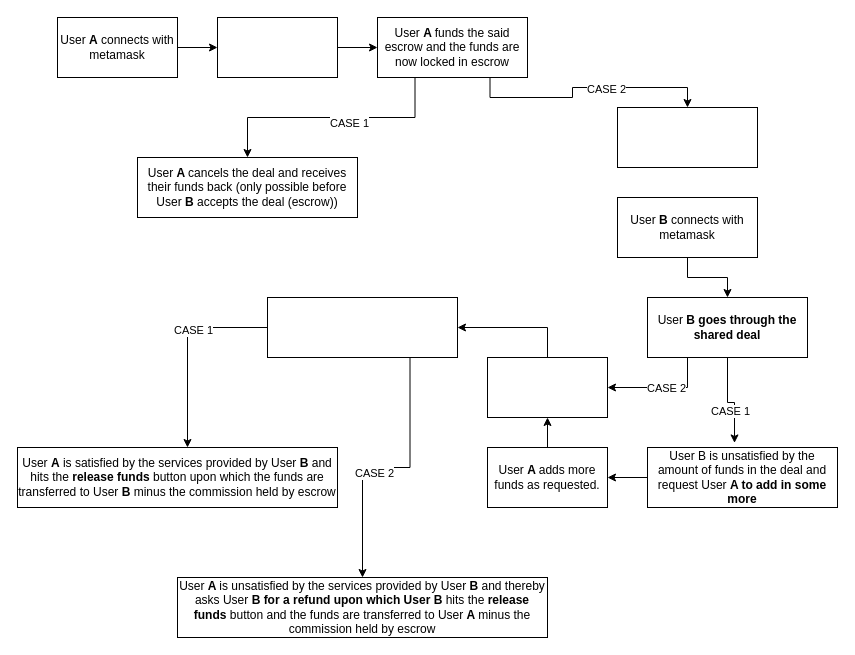
The diagram is 855 pixels wide and 655 high, and some of its shapes have lost their labels. Here are the shapes that lost their labels. From the top down, the centre of each, then its label:
At point (277, 47): "User A creates a new deal (escrow)".
At point (687, 137): "User A shares the deal (escrow) with User B".
At point (362, 327): "*a certain period of time elapses*".
At point (547, 387): "User B accepts the deal".
